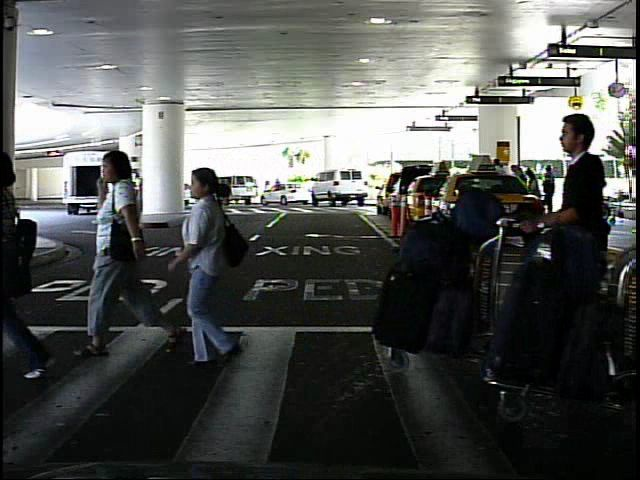person: (532, 96, 623, 394), (165, 159, 242, 382), (95, 137, 172, 359), (585, 171, 604, 217), (261, 178, 272, 204), (110, 172, 116, 204)
